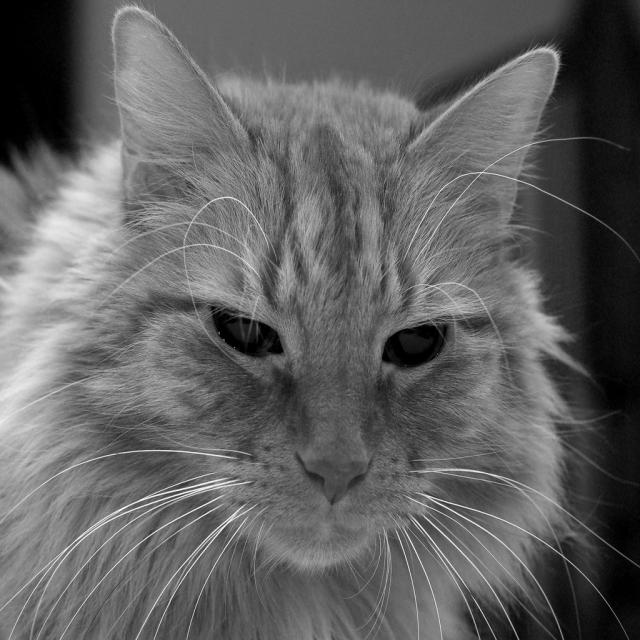left eye: (381, 318, 448, 369)
